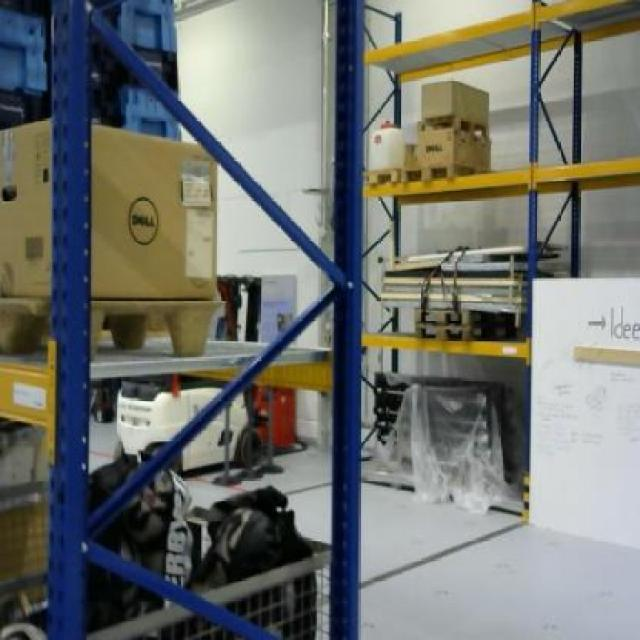box: (1, 118, 218, 297), (414, 131, 494, 174), (418, 78, 490, 122)
